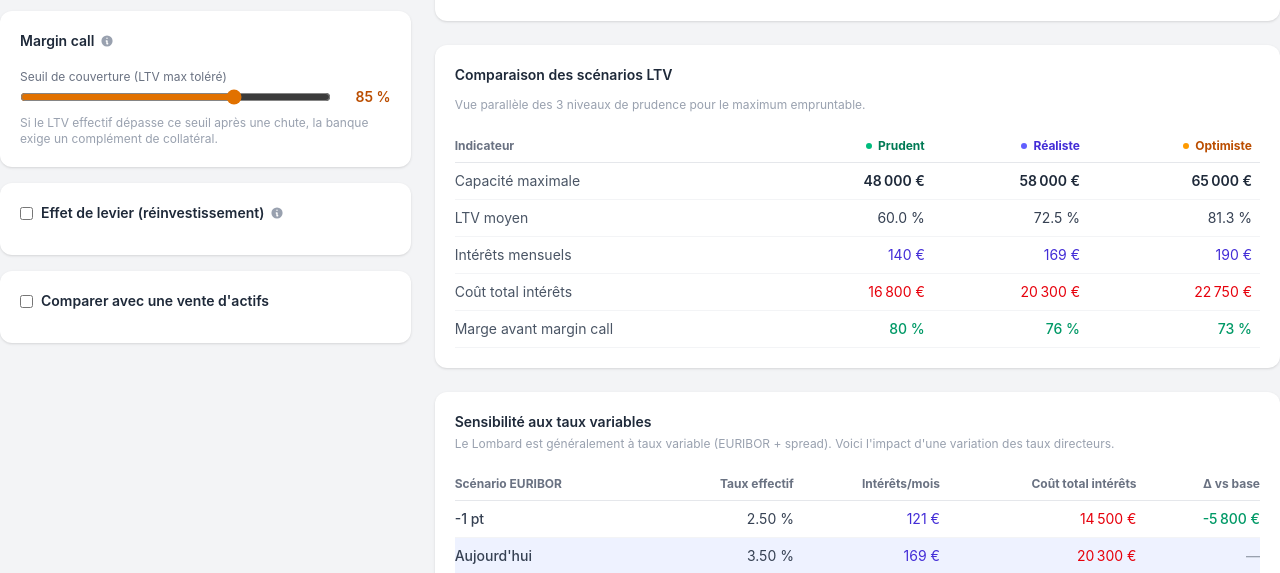
Scenario: LombardSimulatorPage › active l'effet de levier via la checkbox
(page scrolled)
Expected: the text "Effet de levier (réinvestissement)" is shown, [41, 203, 284, 223]
Click the checkbox labelled "Effet de levier (réinvestissement)": (26, 213) [20, 206, 33, 220]
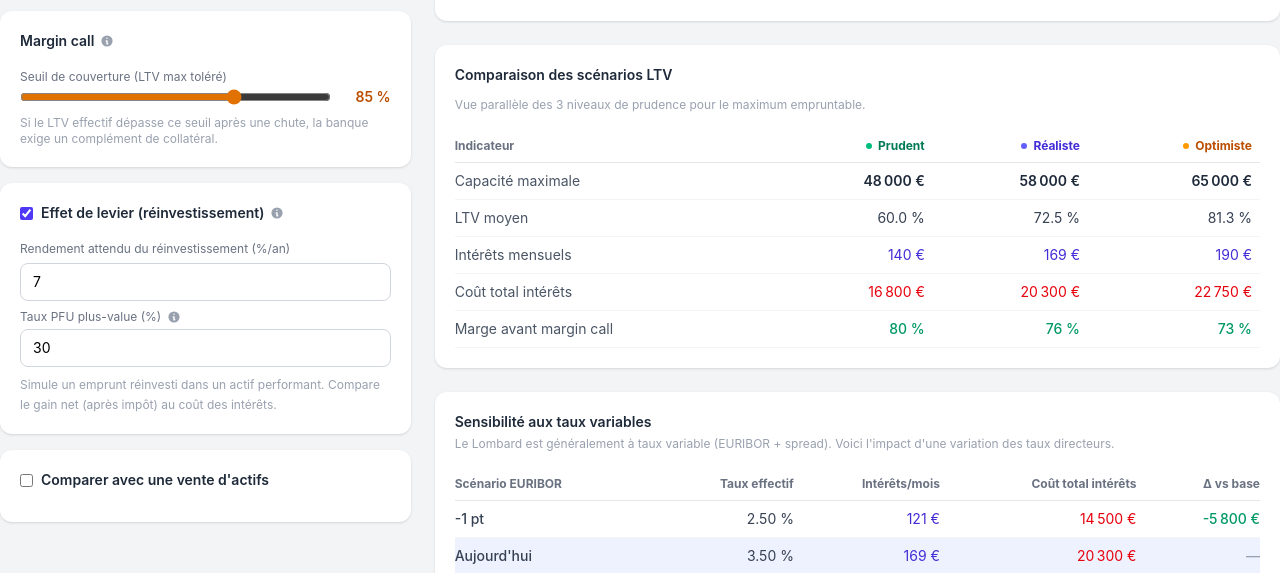
Expected: the text "Rendement attendu du réinvestissement (%/an)" is shown, [20, 241, 290, 256]
